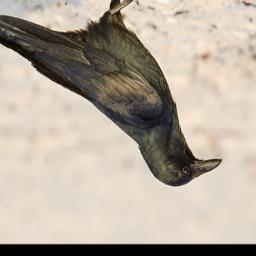Crow: (0, 0, 225, 189)
